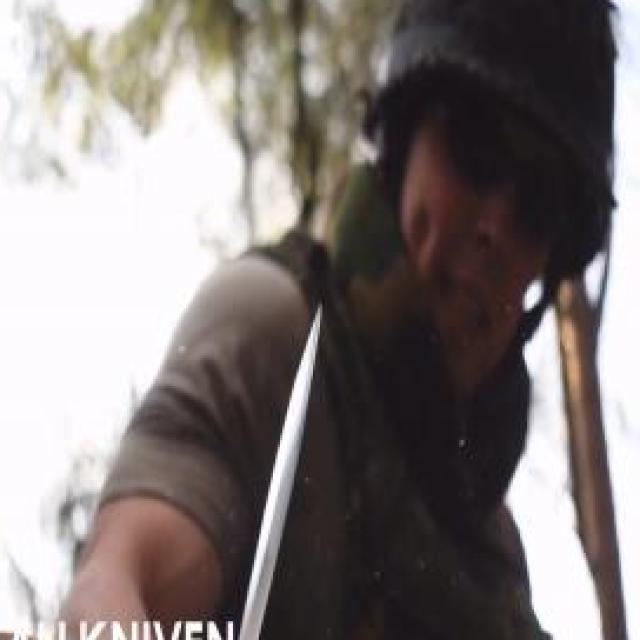knife: (214, 287, 330, 640)
